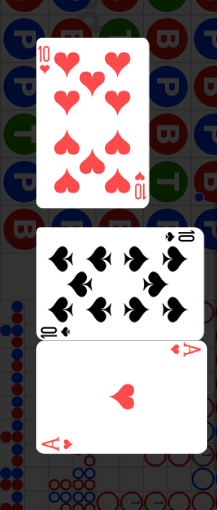10H: (39, 43, 53, 75)
10S: (164, 229, 197, 243)
AH: (41, 435, 76, 451)
